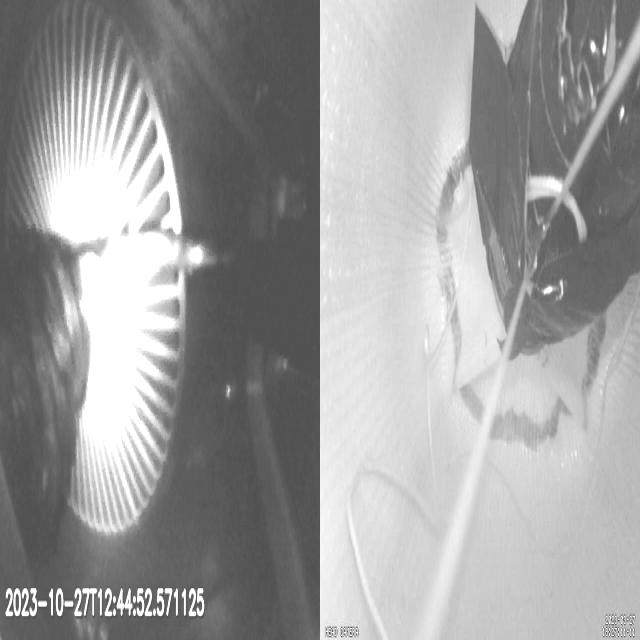red-circle: (436, 141, 609, 451)
